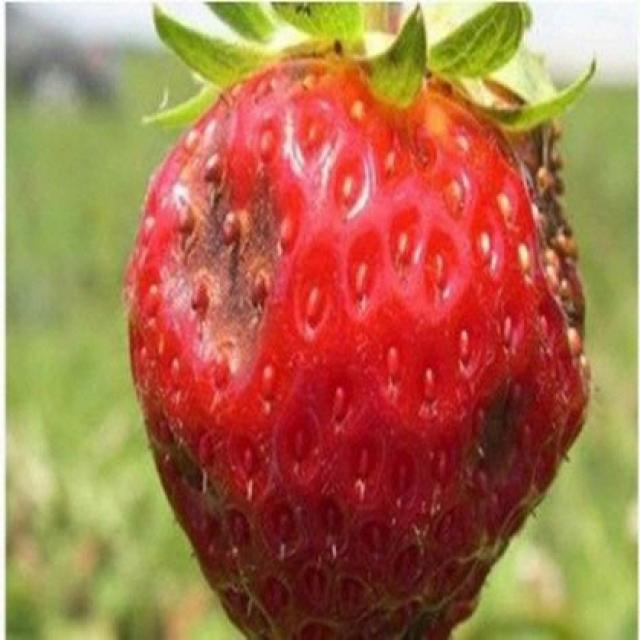Anthracnose Fruit Rot: (152, 60, 595, 508)
